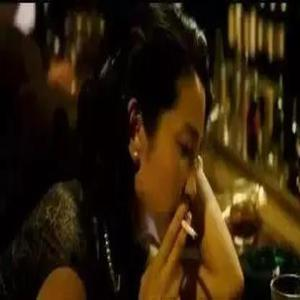cigarette: (182, 220, 200, 241)
